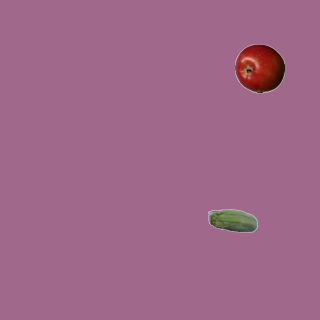Apple Braeburn: (234, 43, 284, 93)
Corn Husk: (207, 197, 257, 247)
